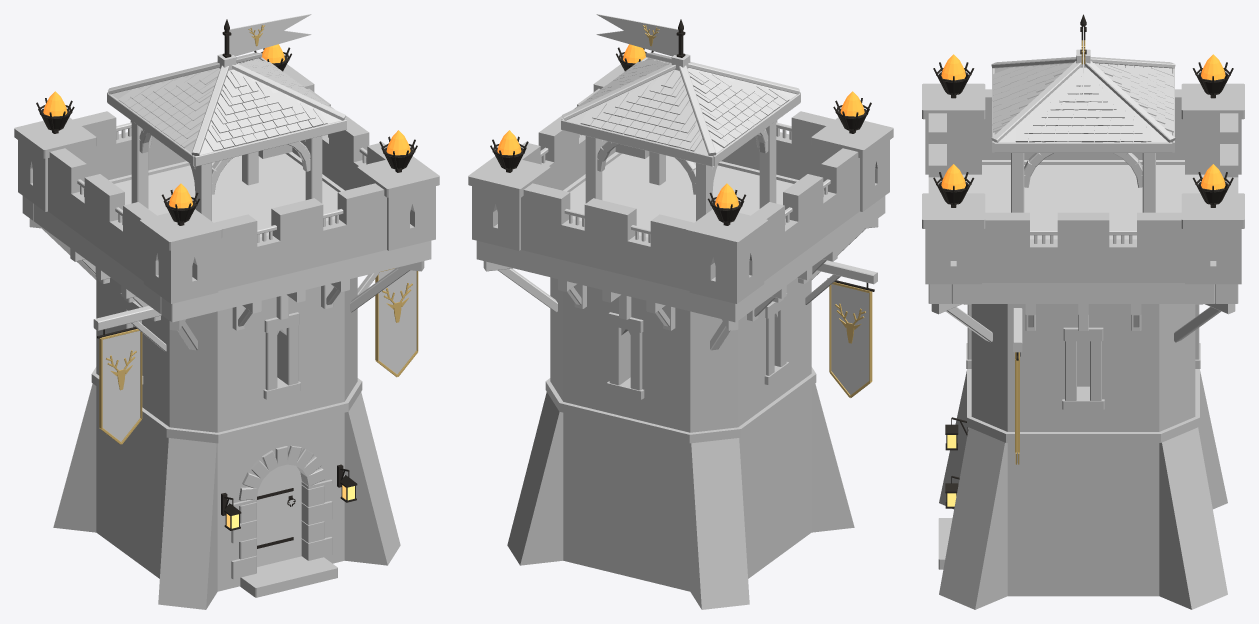
Rendered from SilverbrookWatchtower.glb.
The picture shows the model from 3 angles, left to right: view 1: azimuth 30°, elevation 25°; view 2: azimuth 150°, elevation 25°; view 3: azimuth 270°, elevation 25°; orthographic projection. The views are drawn at different scales.
Visible parts, largest first — view 1: SM_SBWatchtower_Masonry, SM_SBWatchtower_Timber, SM_SBWatchtower_Details, SM_SBWatchtower_Roof, SM_SBWatchtower_Details_Door1; view 2: SM_SBWatchtower_Masonry, SM_SBWatchtower_Timber, SM_SBWatchtower_Roof, SM_SBWatchtower_Details; view 3: SM_SBWatchtower_Masonry, SM_SBWatchtower_Timber, SM_SBWatchtower_Roof, SM_SBWatchtower_Details.
Part boxes in pixels (x1,y1,x2,y2): SM_SBWatchtower_Masonry: (14,64,439,609); SM_SBWatchtower_Timber: (22,52,431,351); SM_SBWatchtower_Details: (36,14,418,530); SM_SBWatchtower_Roof: (111,58,341,154); SM_SBWatchtower_Details_Door1: (256,464,301,566); SM_SBWatchtower_Masonry: (468,64,893,609); SM_SBWatchtower_Timber: (476,52,885,350); SM_SBWatchtower_Roof: (566,58,796,154); SM_SBWatchtower_Details: (490,14,874,397); SM_SBWatchtower_Masonry: (922,83,1244,609); SM_SBWatchtower_Timber: (928,49,1238,356); SM_SBWatchtower_Roof: (992,63,1174,142); SM_SBWatchtower_Details: (933,14,1233,508).
Size of the model in its own units: 5.9 by 8.96 by 4.9.
